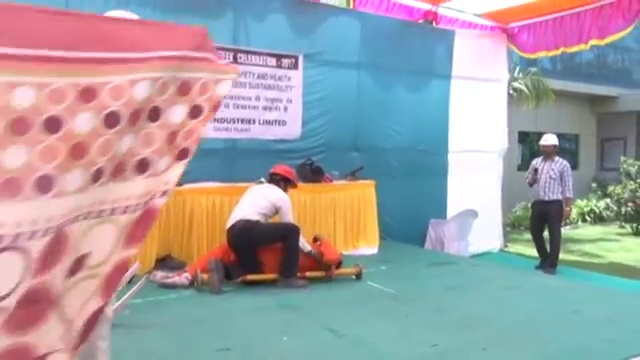helmet: (270, 162, 300, 187), (537, 133, 561, 147)
helmet_on: (266, 160, 300, 195), (536, 132, 562, 161)
person: (206, 159, 310, 298), (151, 233, 345, 293), (523, 132, 575, 276)
